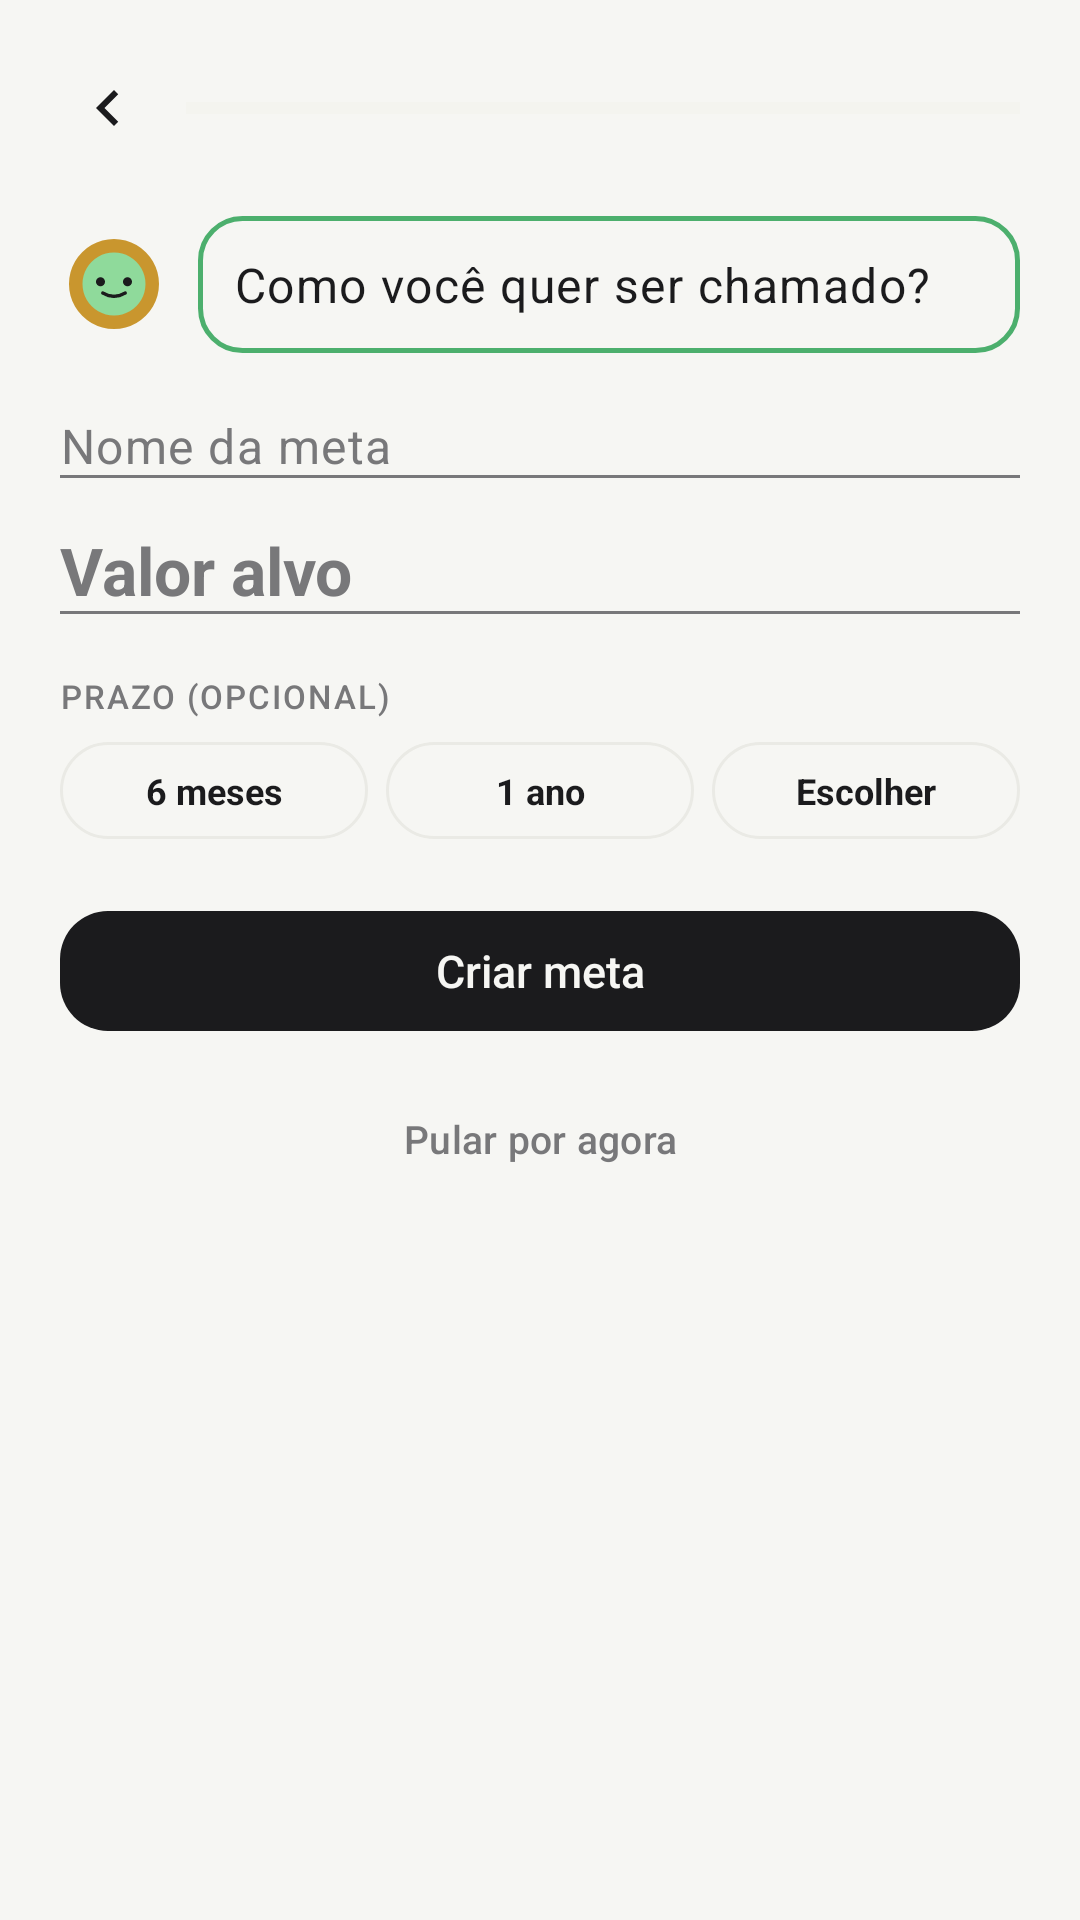

Screen size 1080 x 1920. Icon name, then its box in pixels as [x1,y1,x2,y2]:
Mascote do Anota+: [69,239,159,329]
Voltar: [96,90,118,126]
